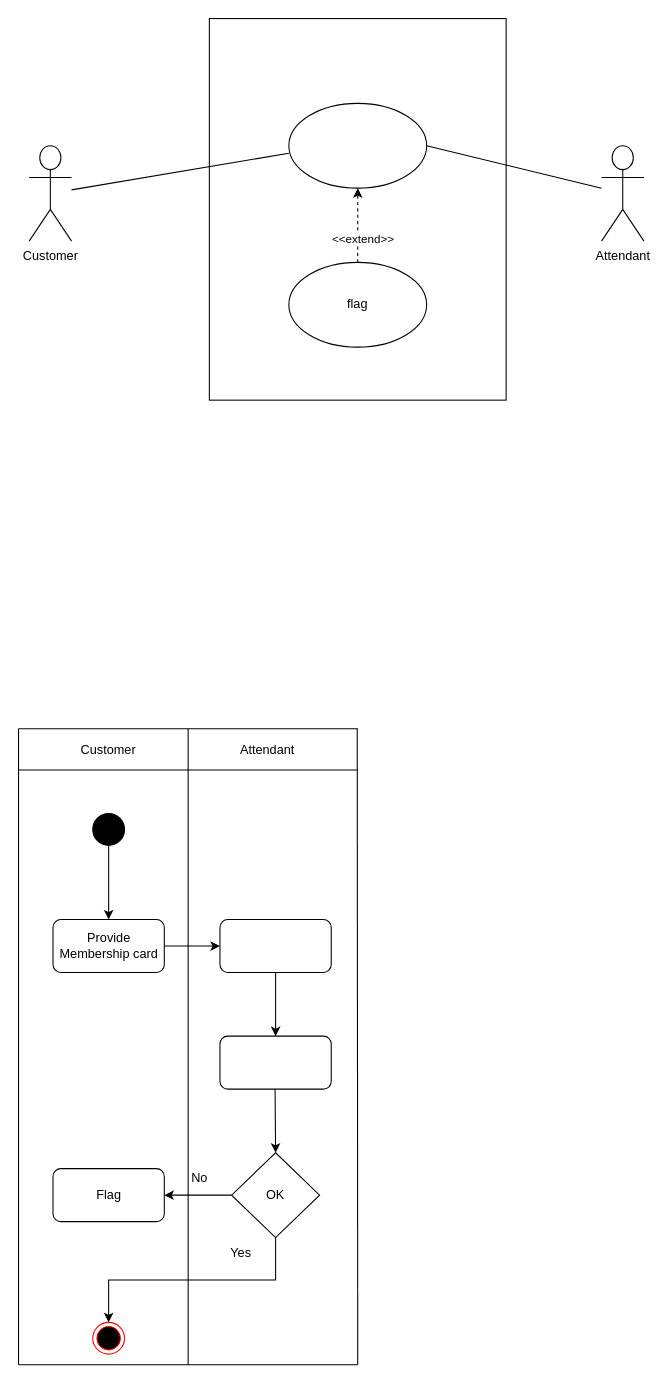
This 668x1384 diagram has some shape labels left out. Here are the shapes that lost their labels. From the top down, the box of each, then its label:
(288, 102, 427, 188): Scan bar code
(219, 918, 331, 973): Scan
(219, 1035, 331, 1089): Check fines and loans
